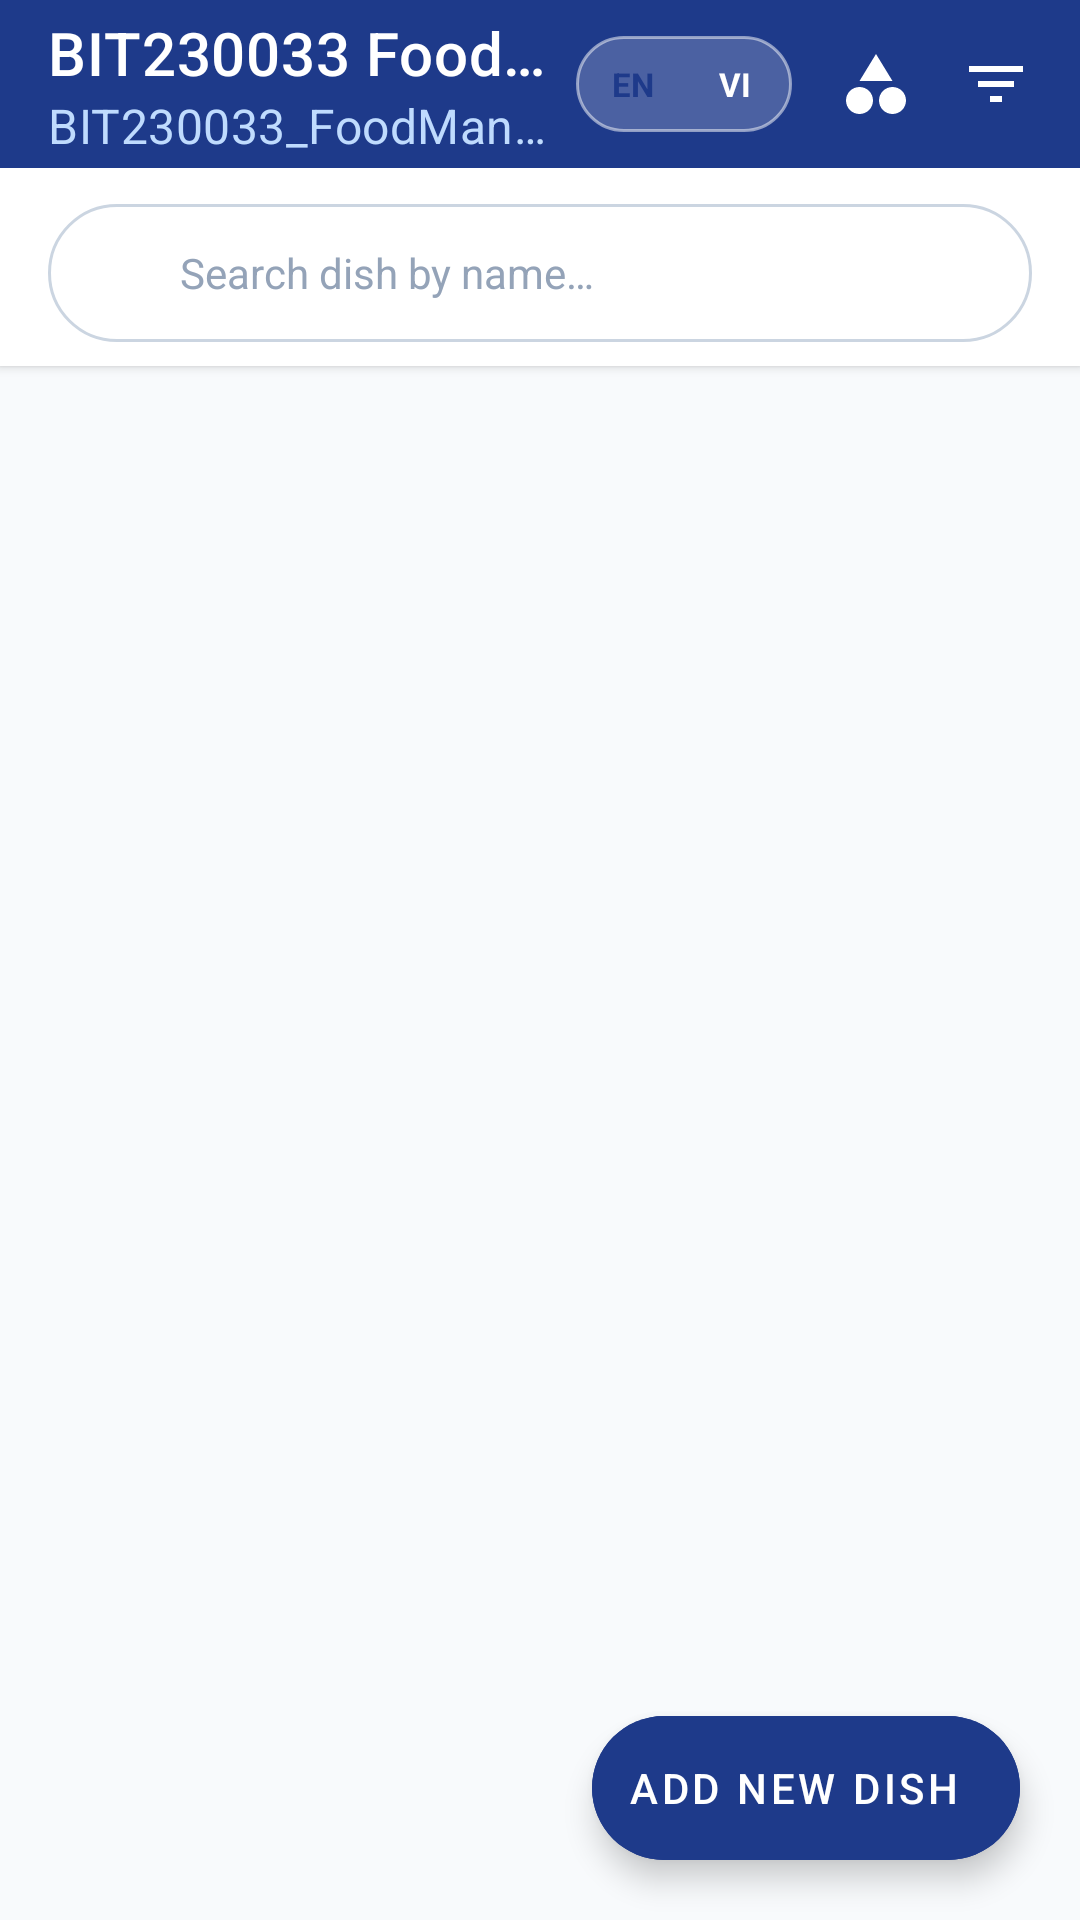

Named icons in this screenshot (1080 × 1920) and their centers, [x,y]:
Filter & Sort: [996,84]
Manage Categories: [876,84]
